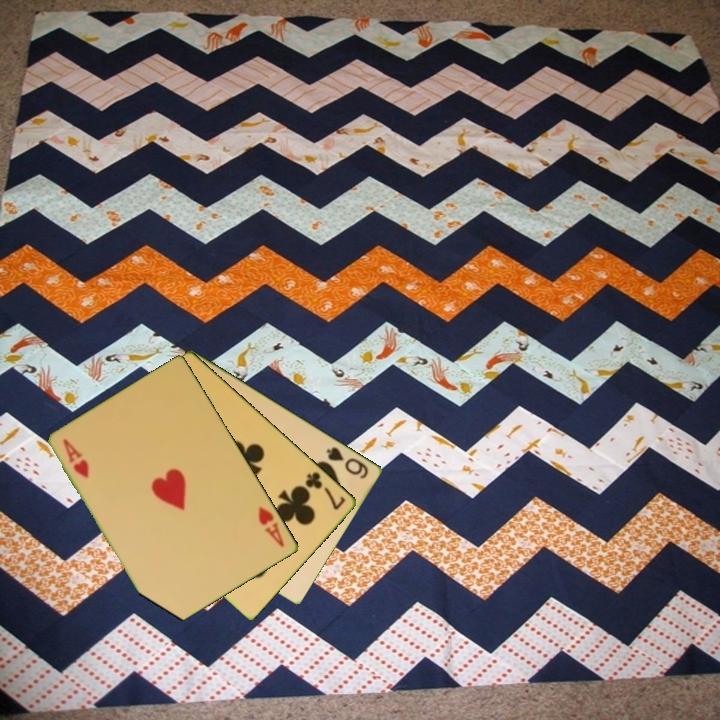6s: (323, 443, 372, 482)
7c: (302, 468, 349, 513)
Ah: (255, 503, 288, 550), (60, 435, 92, 481)
